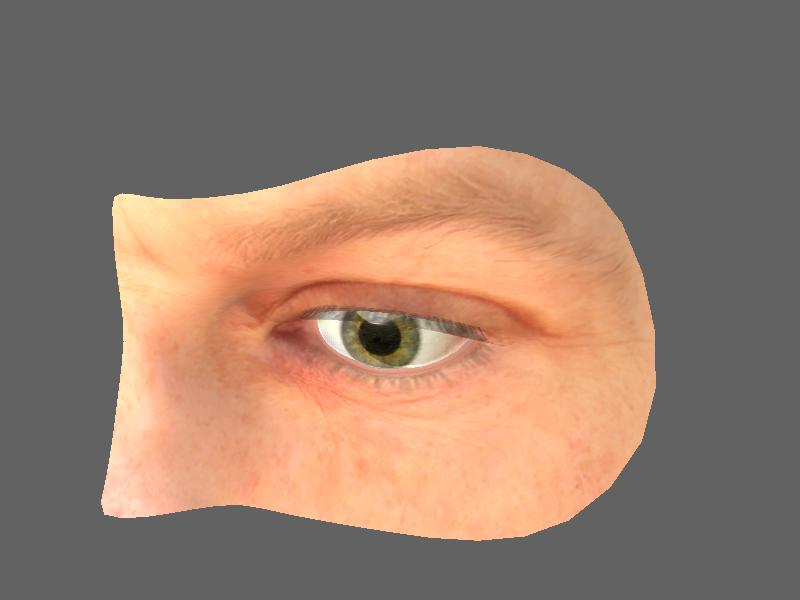iris: (338, 306, 430, 368)
